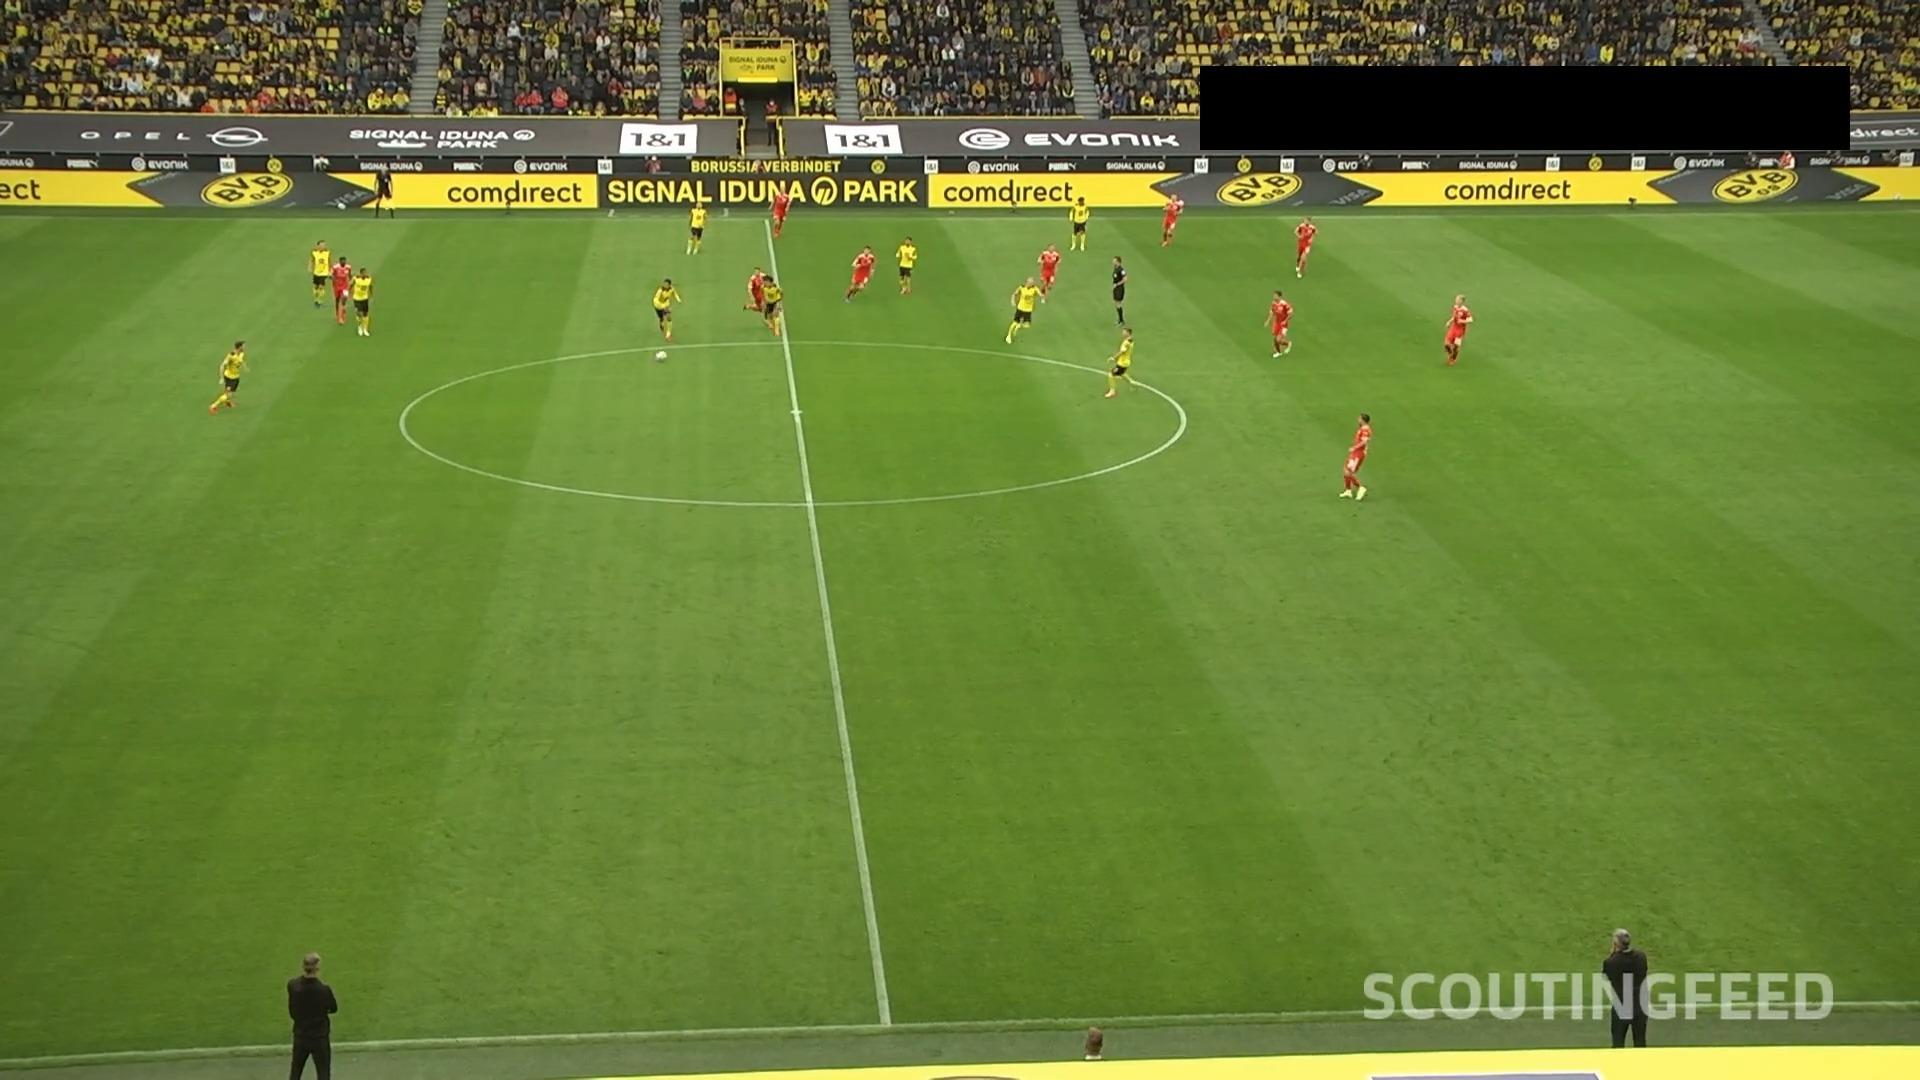ball: (654, 349, 667, 363)
